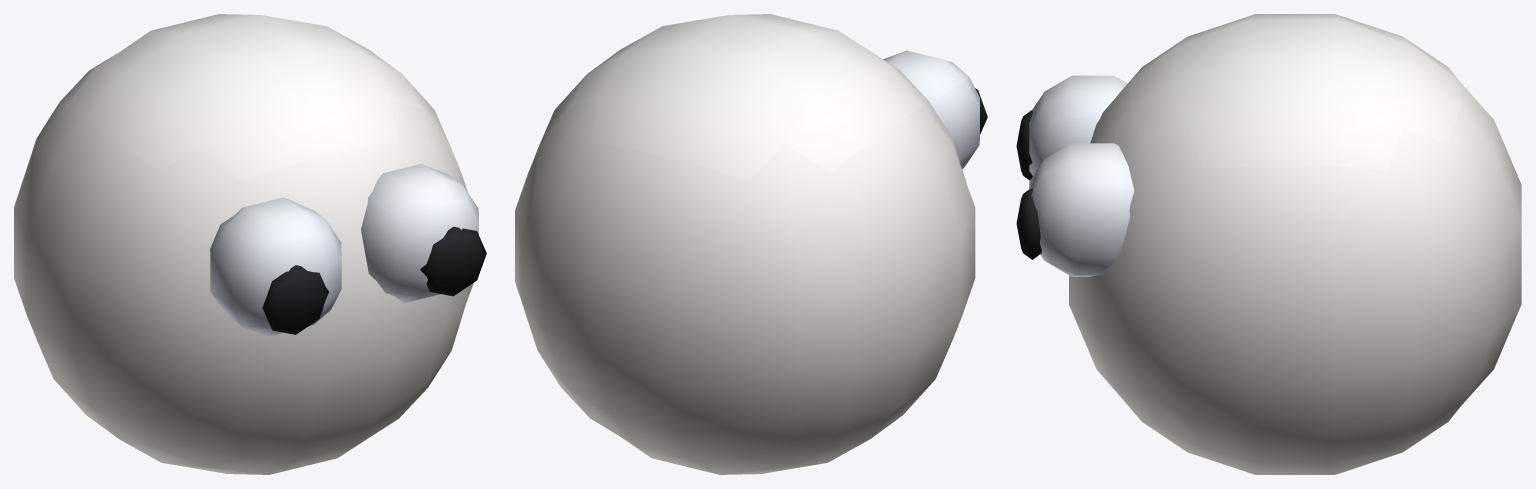
The model's file is BallValley_Kit_Ball_Small.fbx.
3 renders of one model, left to right at view 1: azimuth 30°, elevation 25°; view 2: azimuth 150°, elevation 25°; view 3: azimuth 270°, elevation 25°, orthographic.
Parts seen in each view (by area): view 1: BallValley_Kit_Ball_Small; view 2: BallValley_Kit_Ball_Small; view 3: BallValley_Kit_Ball_Small.
Boxes of the visible parts, x1=… form: BallValley_Kit_Ball_Small: x1=14, y1=14, x2=486, y2=474; BallValley_Kit_Ball_Small: x1=515, y1=14, x2=987, y2=474; BallValley_Kit_Ball_Small: x1=1016, y1=14, x2=1521, y2=474.
Size of the model in its own units: 1.54 by 1.54 by 1.72.
